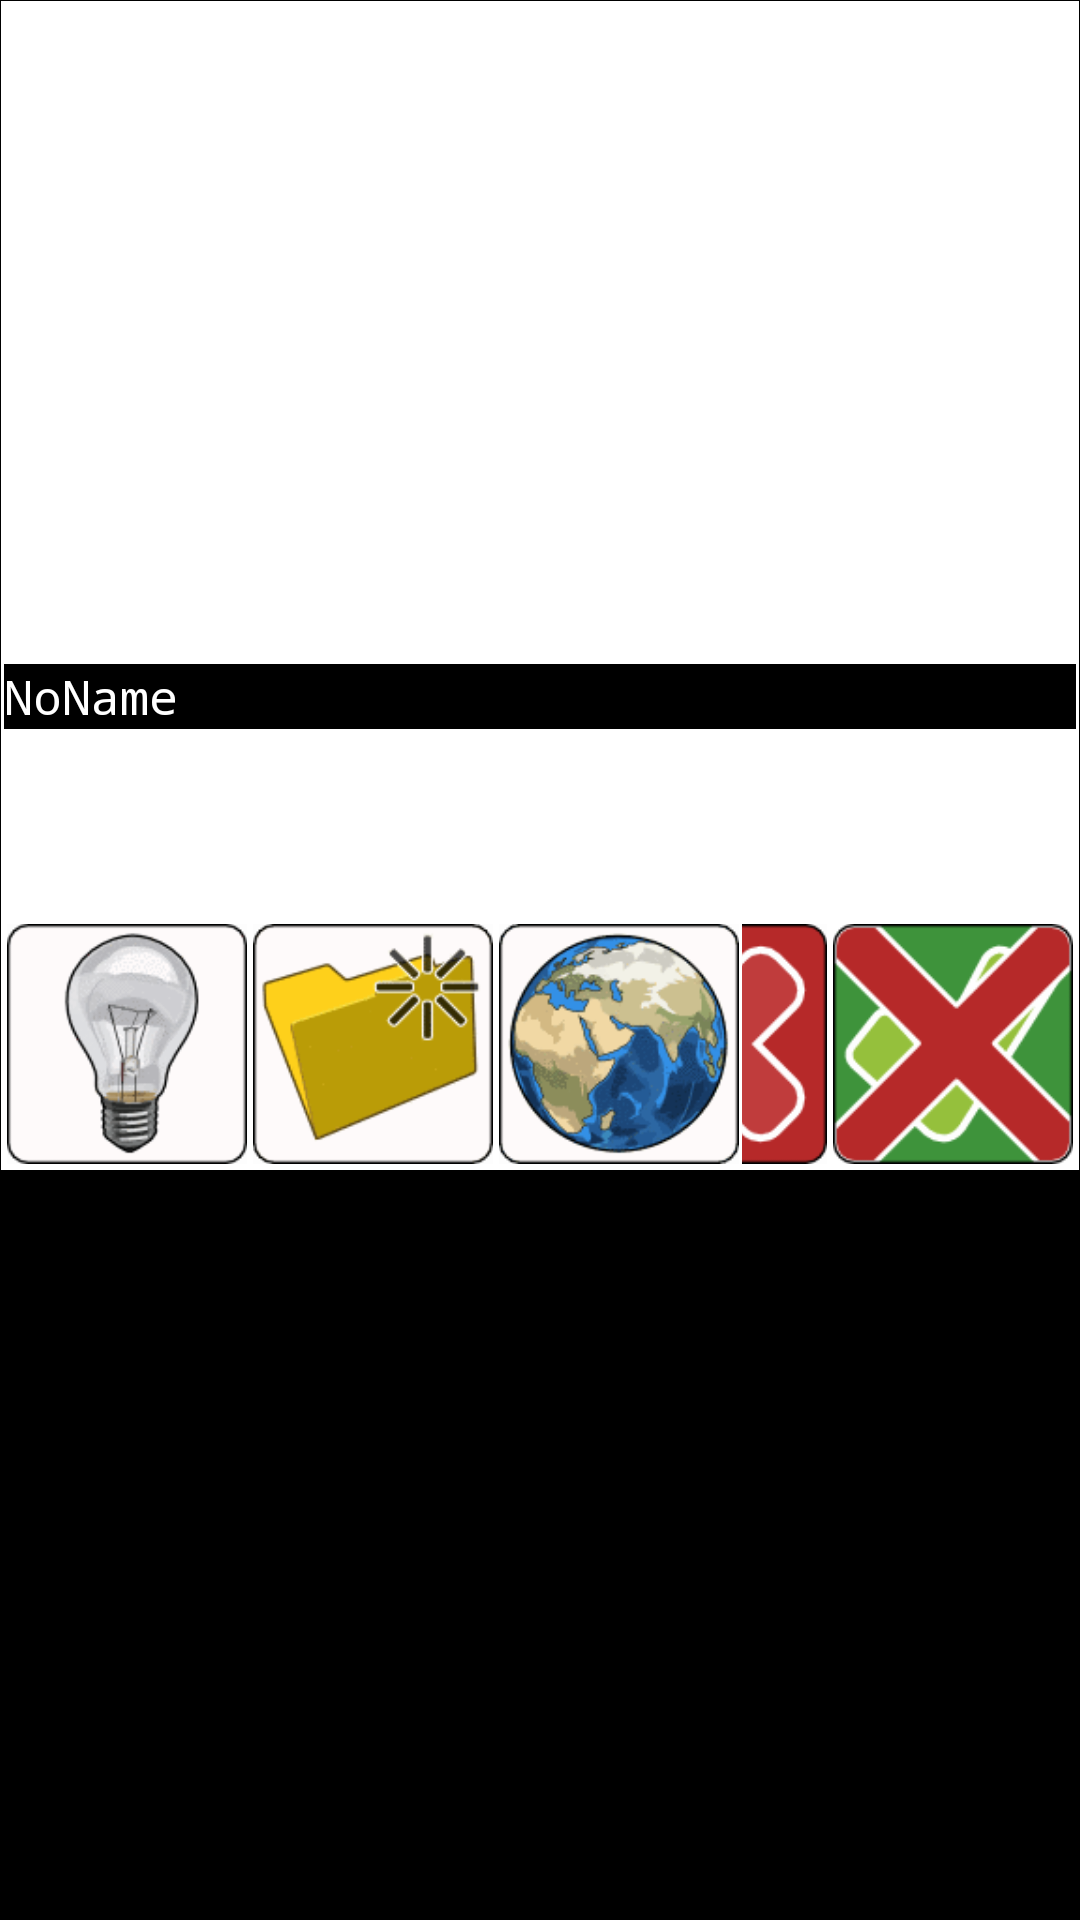

Icons on this 1080px x 1920px Android screen, each with the point to tap as [x,y]:
iconearthon: [619,1044]
iconlight: [127,1044]
iconnewfolder: [373,1044]
iconvalidoff: [953,1044]
